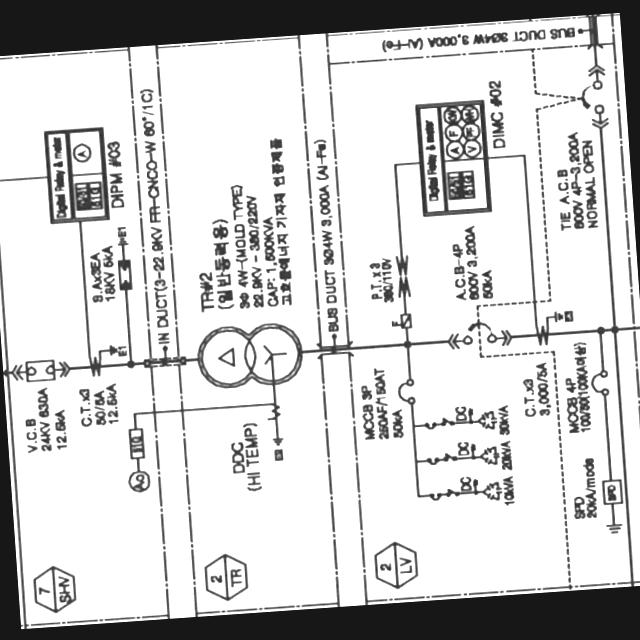CB: (25, 360, 55, 381)
CT: (534, 324, 550, 346), (87, 356, 102, 376), (266, 402, 280, 419)
GND: (605, 521, 623, 535), (271, 435, 284, 446), (108, 343, 118, 356), (554, 310, 564, 323), (117, 236, 129, 246)
LA: (117, 260, 132, 290)
MCCB: (396, 377, 416, 405), (590, 369, 610, 396)
PF2: (400, 313, 412, 329)
PT: (394, 255, 412, 297)
SC: (482, 480, 502, 500), (480, 446, 500, 466), (478, 410, 498, 430)
